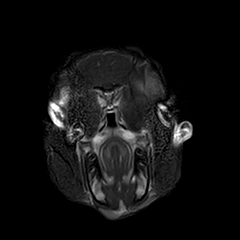Brain: (57, 20, 156, 118)
